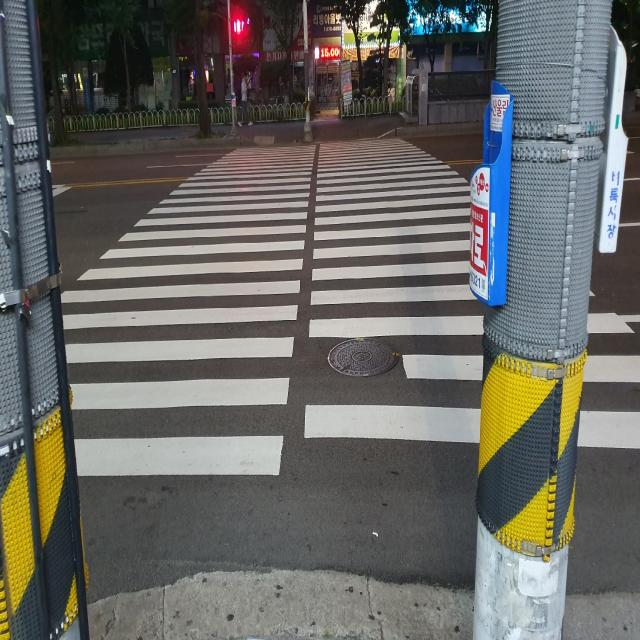빨간불: (232, 14, 245, 51)
횡단보도: (59, 137, 640, 480)
